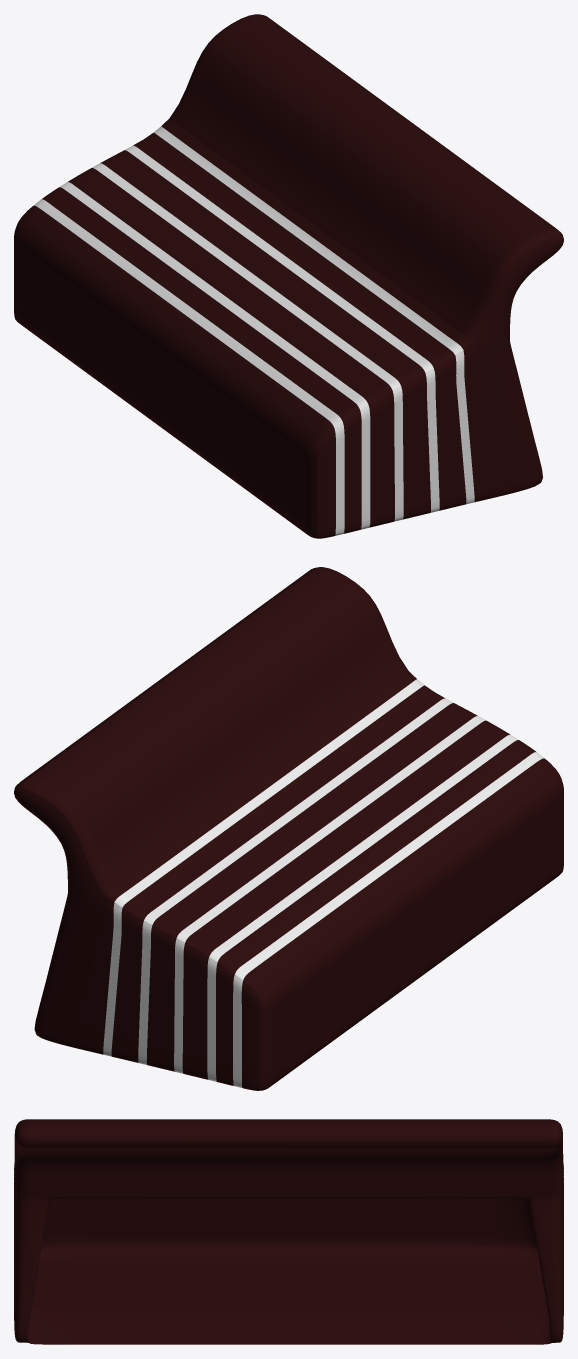
The model's file is Goal 1.fbx.
The picture shows the model from 3 angles, top to bottom: view 1: azimuth 30°, elevation 25°; view 2: azimuth 150°, elevation 25°; view 3: azimuth 270°, elevation 25°; orthographic projection. The views are drawn at different scales.
Visible parts, largest first — view 1: Goal001; view 2: Goal001; view 3: Goal001.
Boxes of the visible parts, x1,y1,x2,y2 form: Goal001: (14, 14, 563, 538); Goal001: (14, 567, 563, 1090); Goal001: (14, 1119, 563, 1344).
Size of the model in its own units: 175 by 164 by 363.
